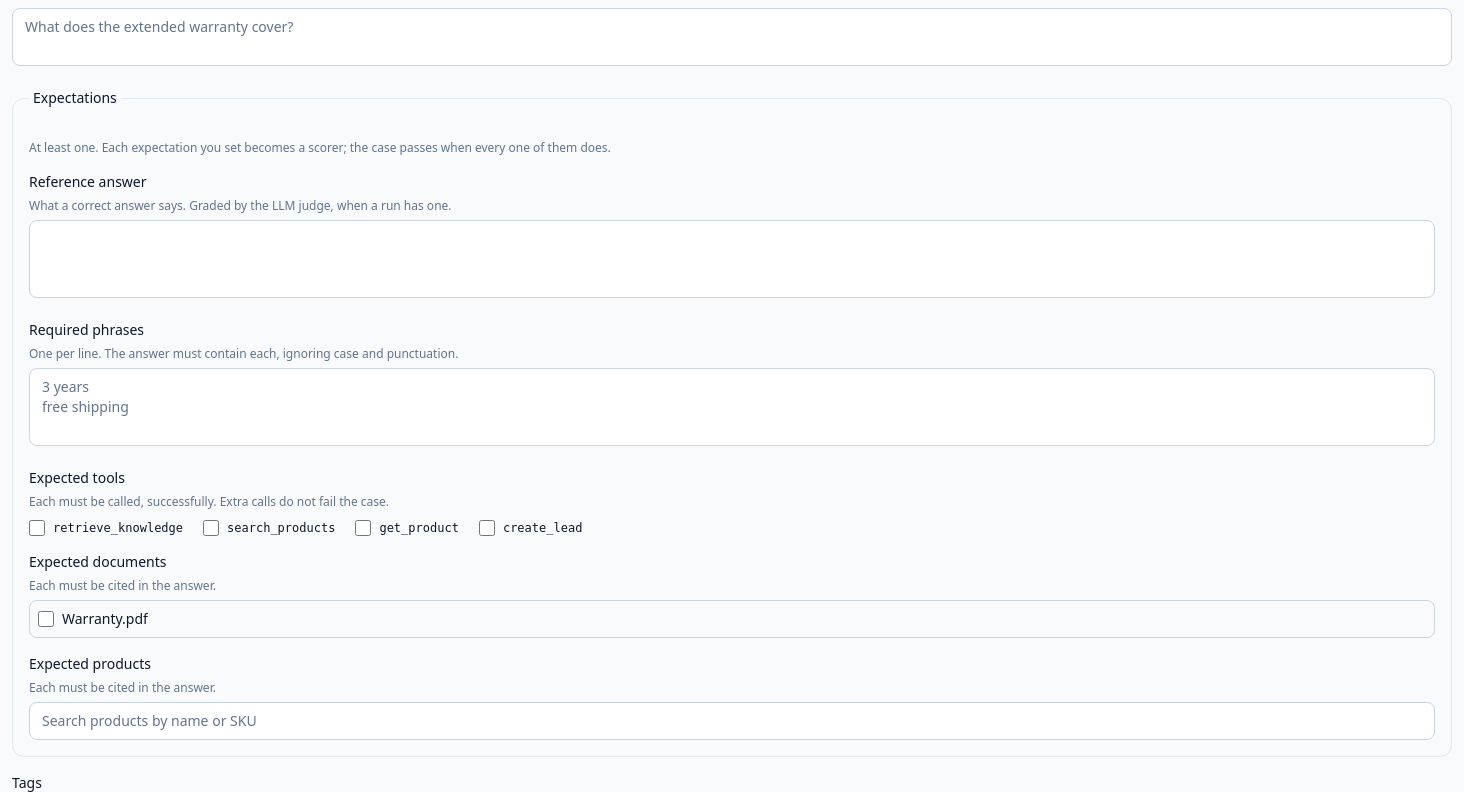
Test: CaseForm › blocks a submit with no question
Type "Three years." into the text box labelled "Reference answer" at (732, 259), box [29,220,1435,298]
(page scrolled)
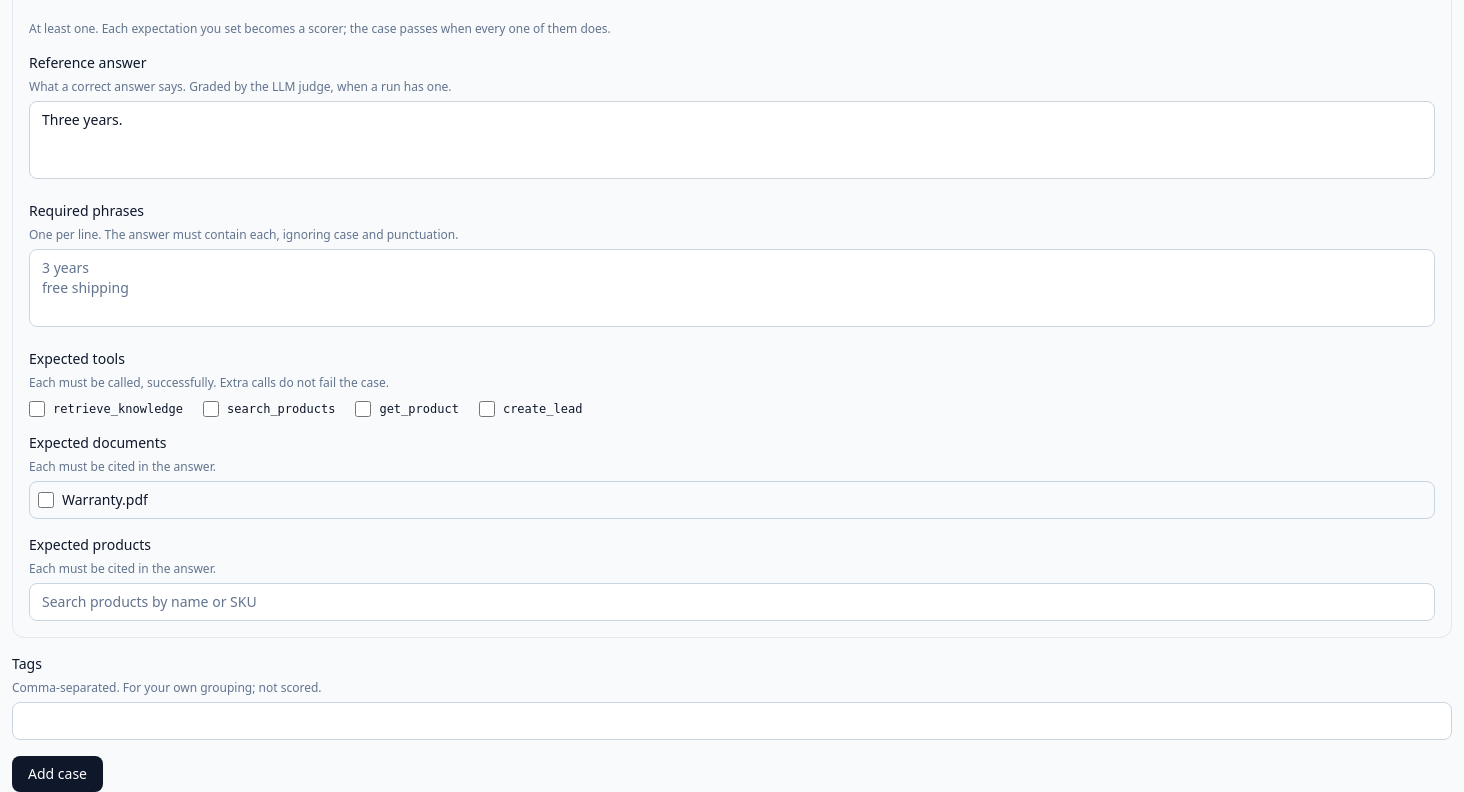
Click the button "Add case" at (58, 774), box [12,756,103,791]
(page scrolled)
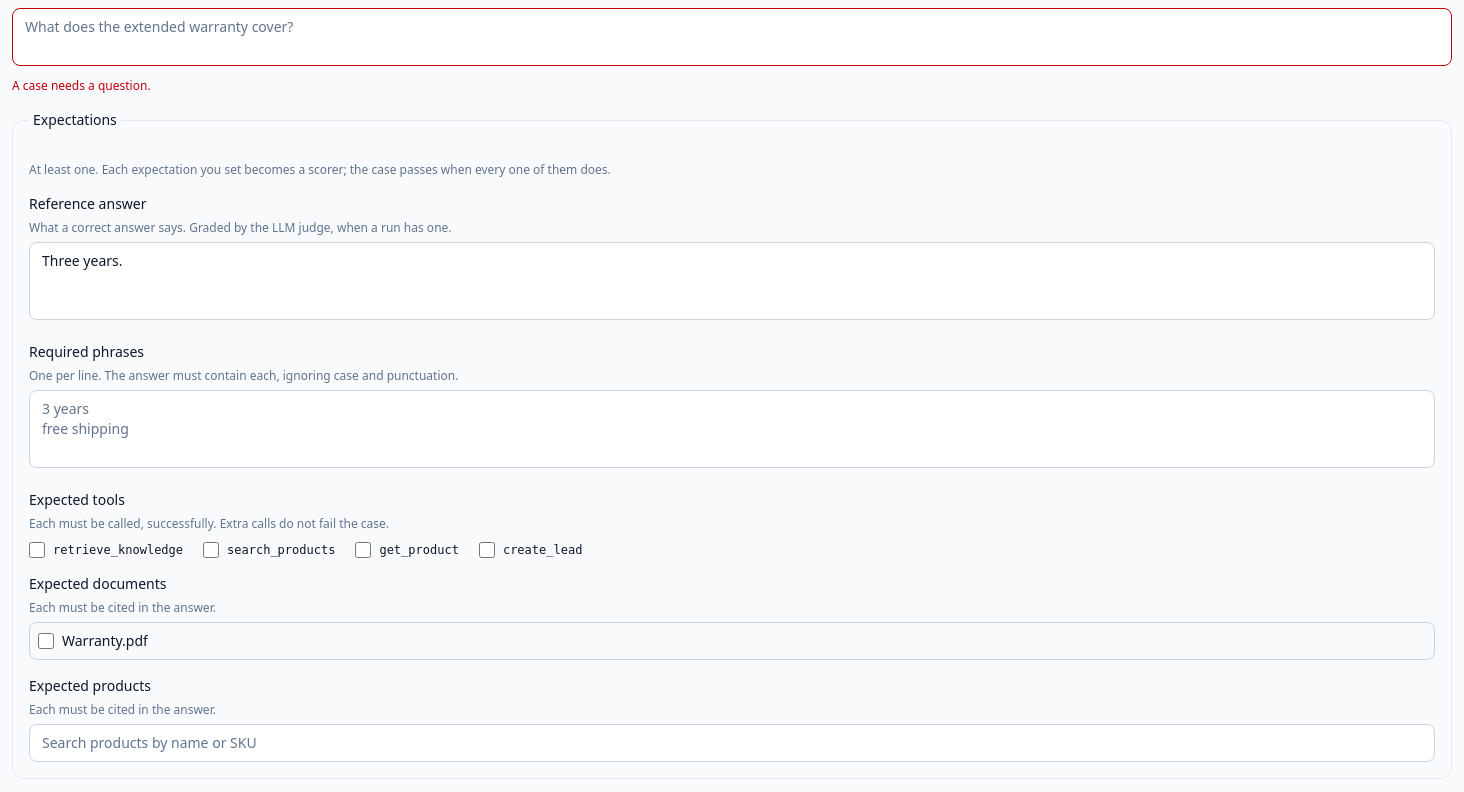
Result: the text "A case needs a question." is shown at [12,77,151,94]
